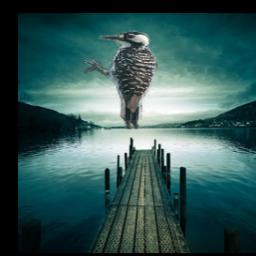Woodpecker: (81, 30, 160, 129)
